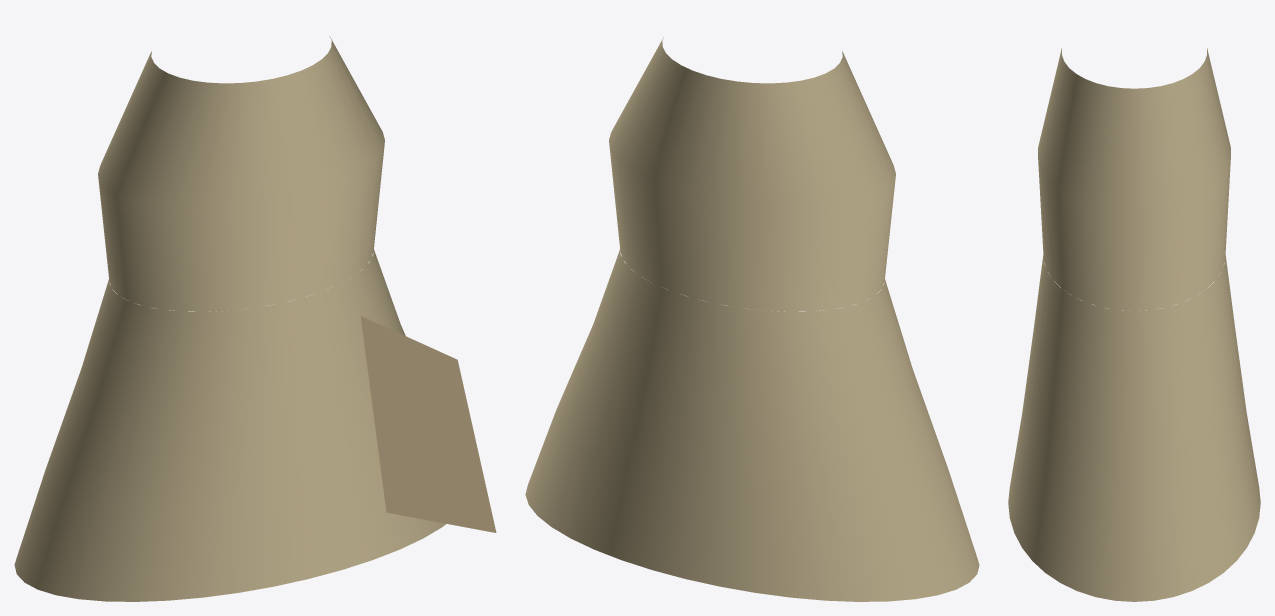
The model's file is sandro-satin-slip-dress.glb.
3 views of the same model, side by side, from view 1: azimuth 30°, elevation 25°; view 2: azimuth 150°, elevation 25°; view 3: azimuth 270°, elevation 25° (orthographic). The views are drawn at different scales.
Visible parts, largest first — view 1: satin_dress_skirt, satin_dress_bodice, satin_dress_side_shadow; view 2: satin_dress_skirt, satin_dress_bodice; view 3: satin_dress_skirt, satin_dress_bodice.
Boxes of the visible parts, <box> form: satin_dress_skirt: <box>14,250,445,601</box>; satin_dress_bodice: <box>98,36,384,311</box>; satin_dress_side_shadow: <box>360,316,496,532</box>; satin_dress_skirt: <box>525,250,979,601</box>; satin_dress_bodice: <box>609,37,895,311</box>; satin_dress_skirt: <box>1008,256,1260,601</box>; satin_dress_bodice: <box>1038,48,1230,310</box>.
Bounding box in the file's own units: 0.67 × 0.71 × 0.36.
